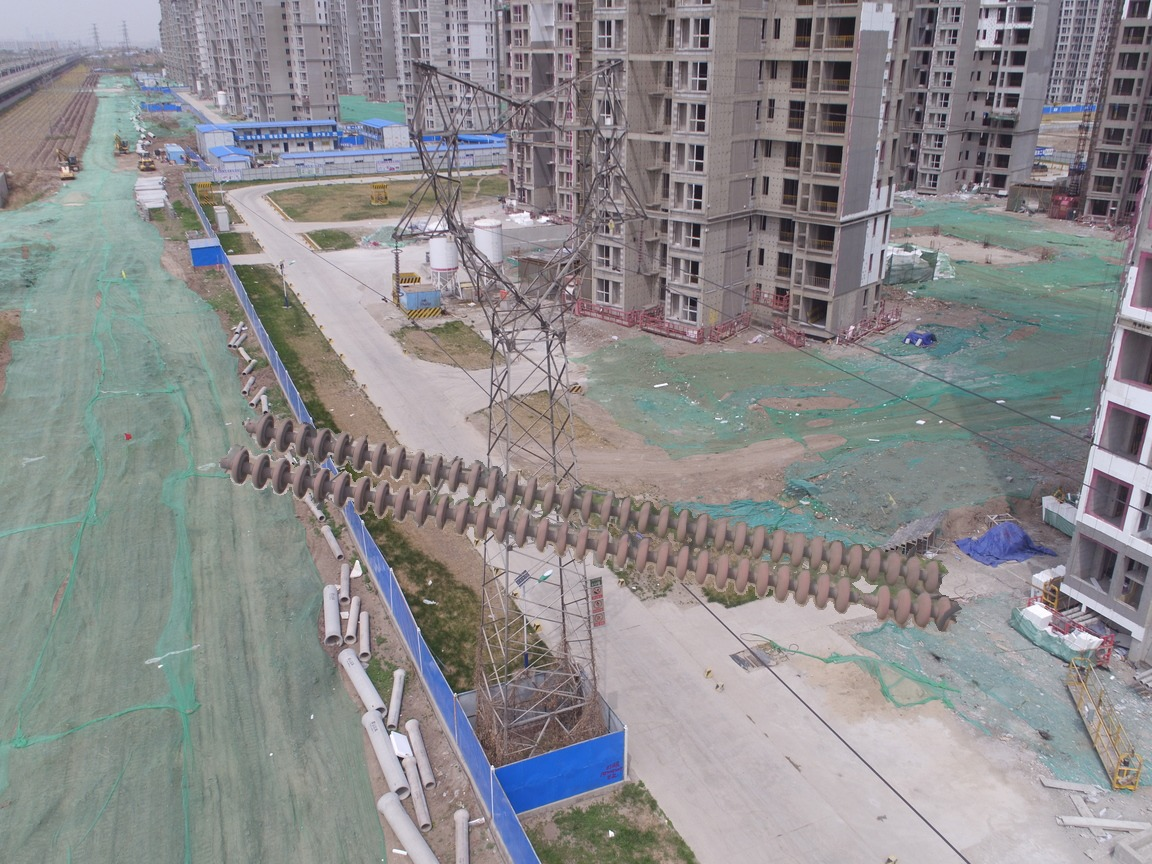defect: (826, 574, 898, 622)
